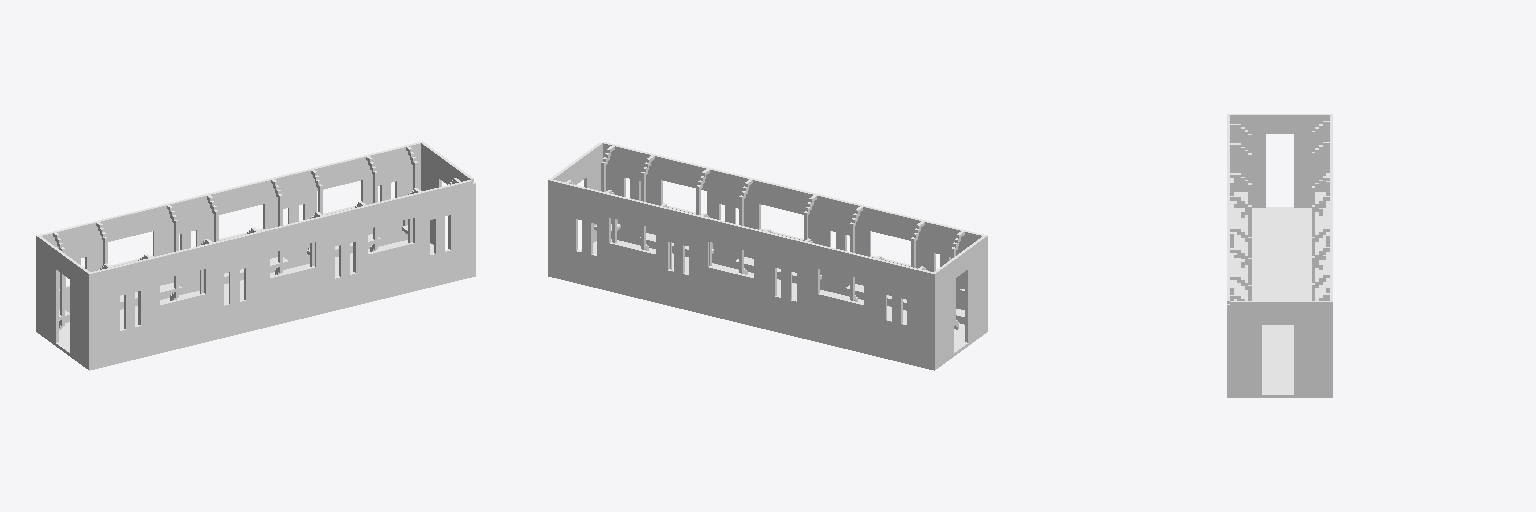
Rendered from SubwayCar.obj.
3 renders of one model, left to right at view 1: azimuth 30°, elevation 25°; view 2: azimuth 150°, elevation 25°; view 3: azimuth 270°, elevation 25°, orthographic.
Size of the model in its own units: 126 by 30 by 30.